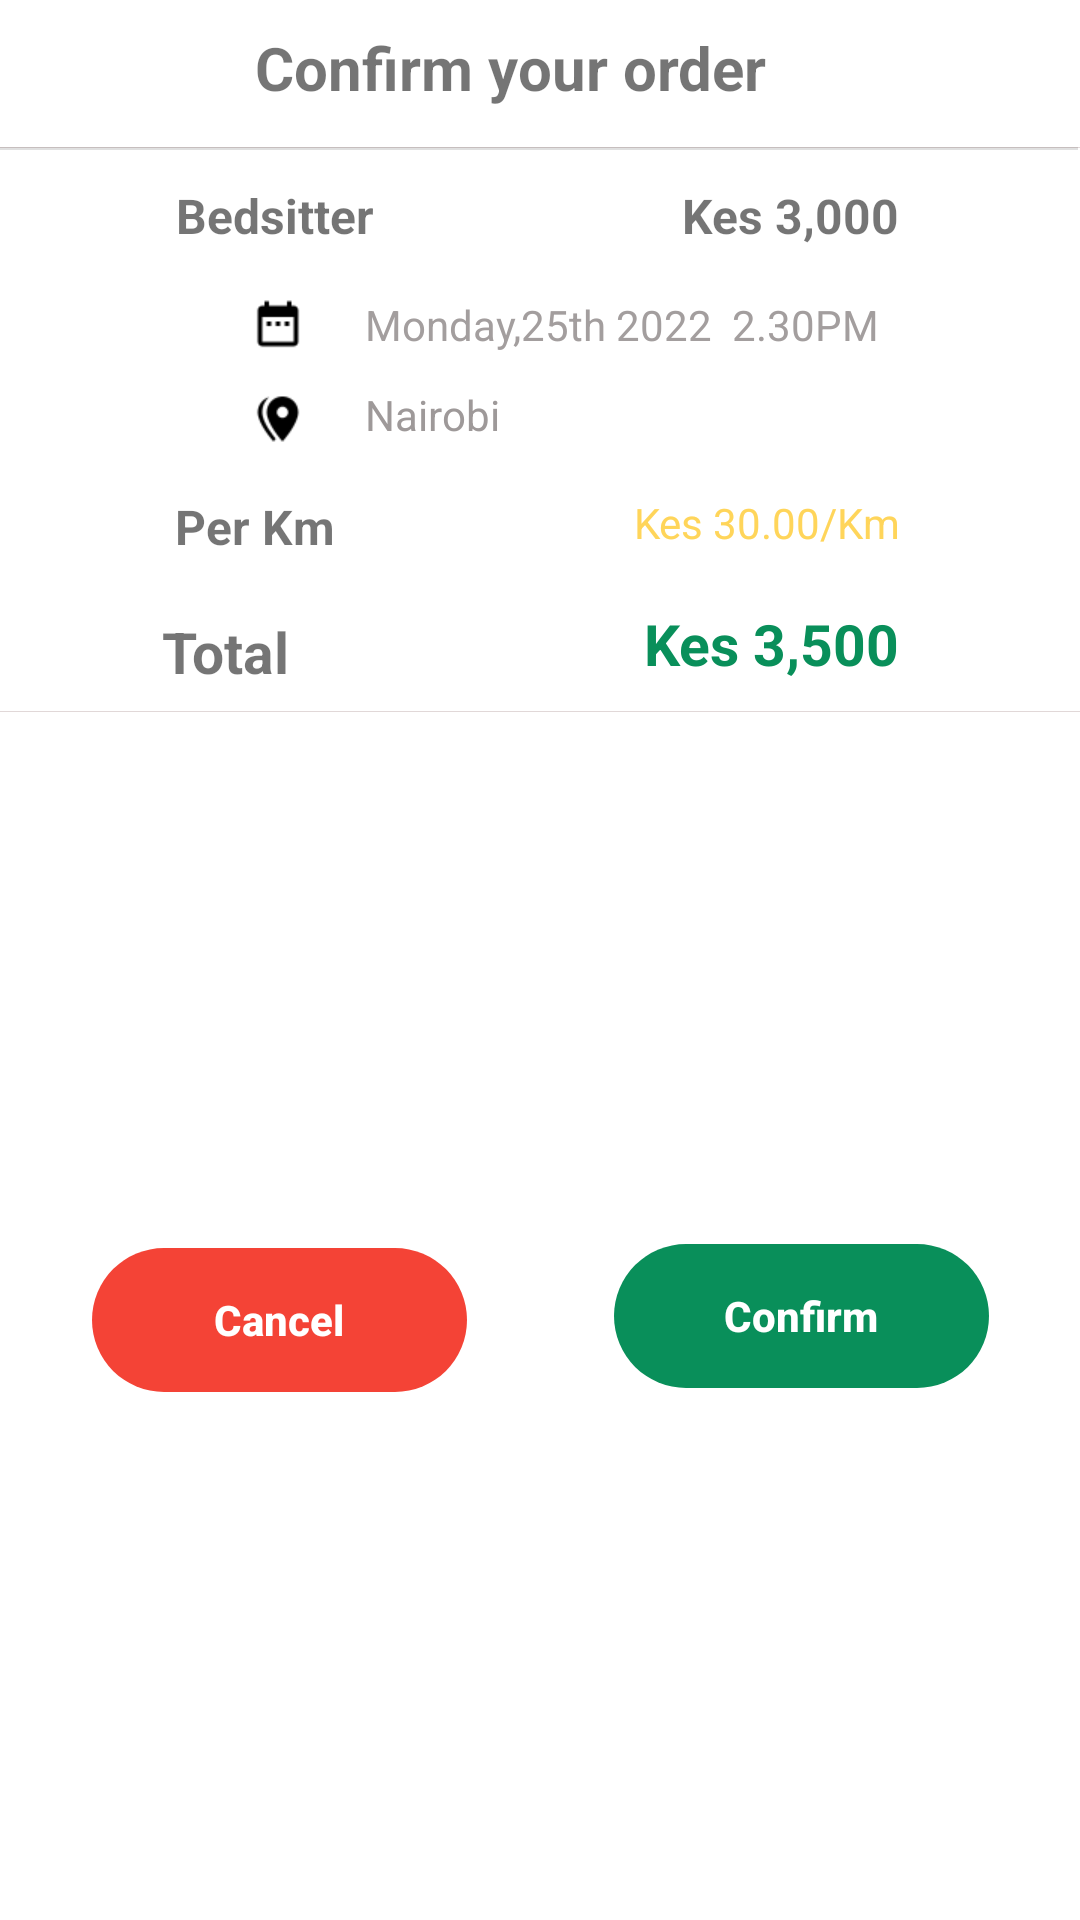

Where to tap for icons on this 1080px x 1920px app screen, as [x,y]:
date: [278,323]
location: [278,419]
